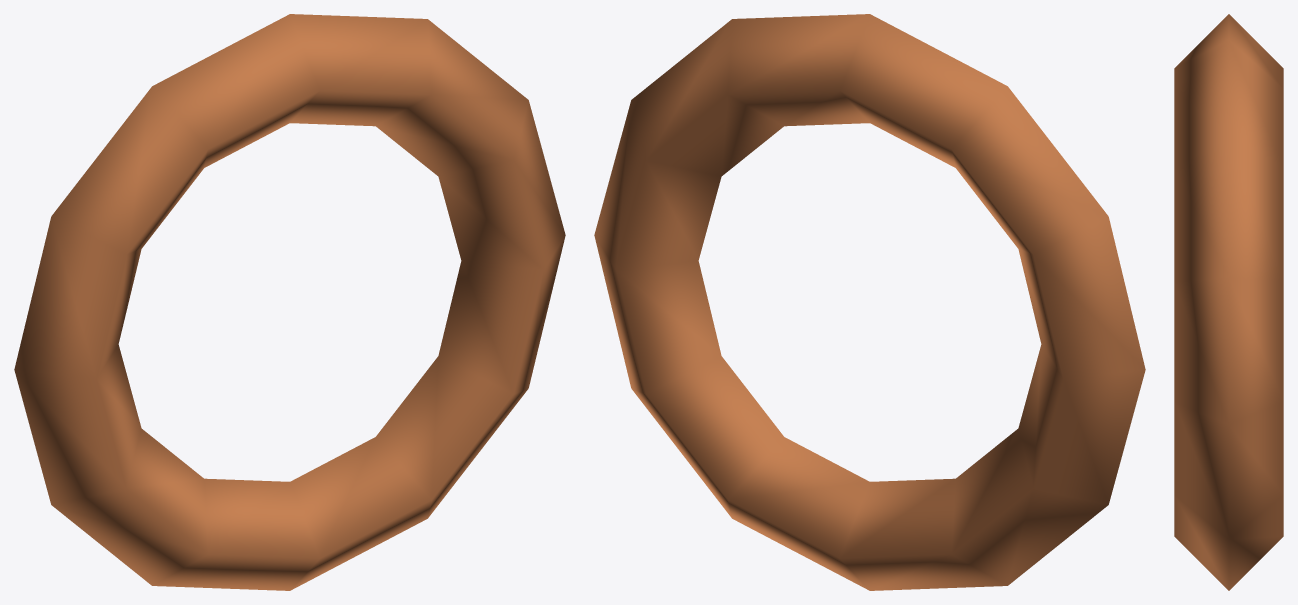
Rendered from ring_t1.glb.
3 views of the same model, side by side, from view 1: azimuth 30°, elevation 25°; view 2: azimuth 150°, elevation 25°; view 3: azimuth 270°, elevation 25° (orthographic). The views are drawn at different scales.
Parts seen in each view (by area): view 1: item_ringBand1; view 2: item_ringBand1; view 3: item_ringBand1.
Boxes of the visible parts, x1,y1,x2,y2 form: item_ringBand1: (14,14,565,590); item_ringBand1: (594,14,1145,590); item_ringBand1: (1174,14,1283,590).
Size of the model in its own units: 0.2072 by 0.2072 by 0.0392.
